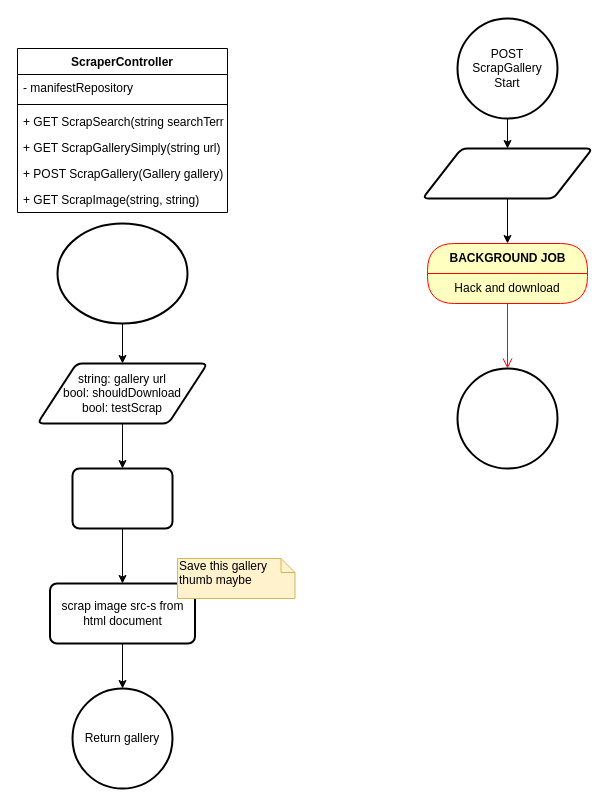
This 611x806 diagram has some shape labels left out. The shapes that lost their labels are listed below. From the top down, each one's box as (x1, y1, x2, y2) in pixels, then its label:
(421, 147, 593, 199): Gallery: galleryToScrap
(56, 222, 188, 324): GET ScrapGallerySimple Start
(456, 367, 558, 469): Return
(71, 467, 173, 529): get html page through htt GET
